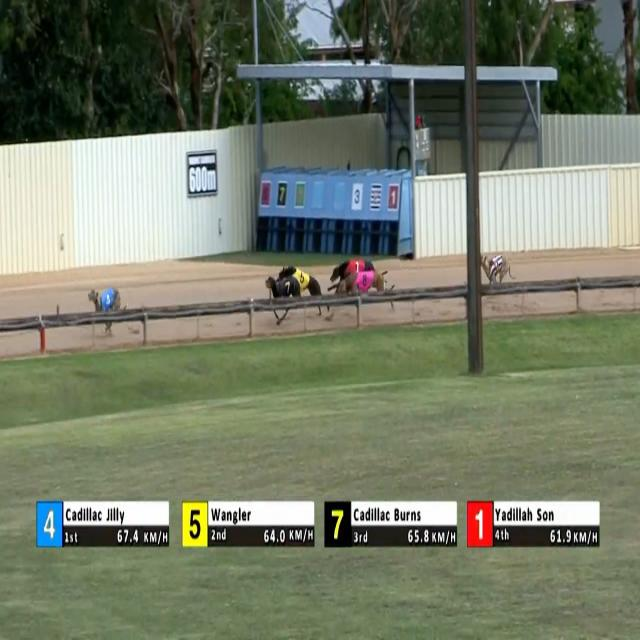dog_eight: (356, 272, 376, 290)
dog_five: (292, 268, 309, 291)
dog_four: (99, 287, 113, 312)
dog_one: (349, 258, 366, 277)
dog_seven: (282, 277, 295, 301)
dog_two: (489, 253, 502, 281)
rail: (0, 275, 640, 333)
